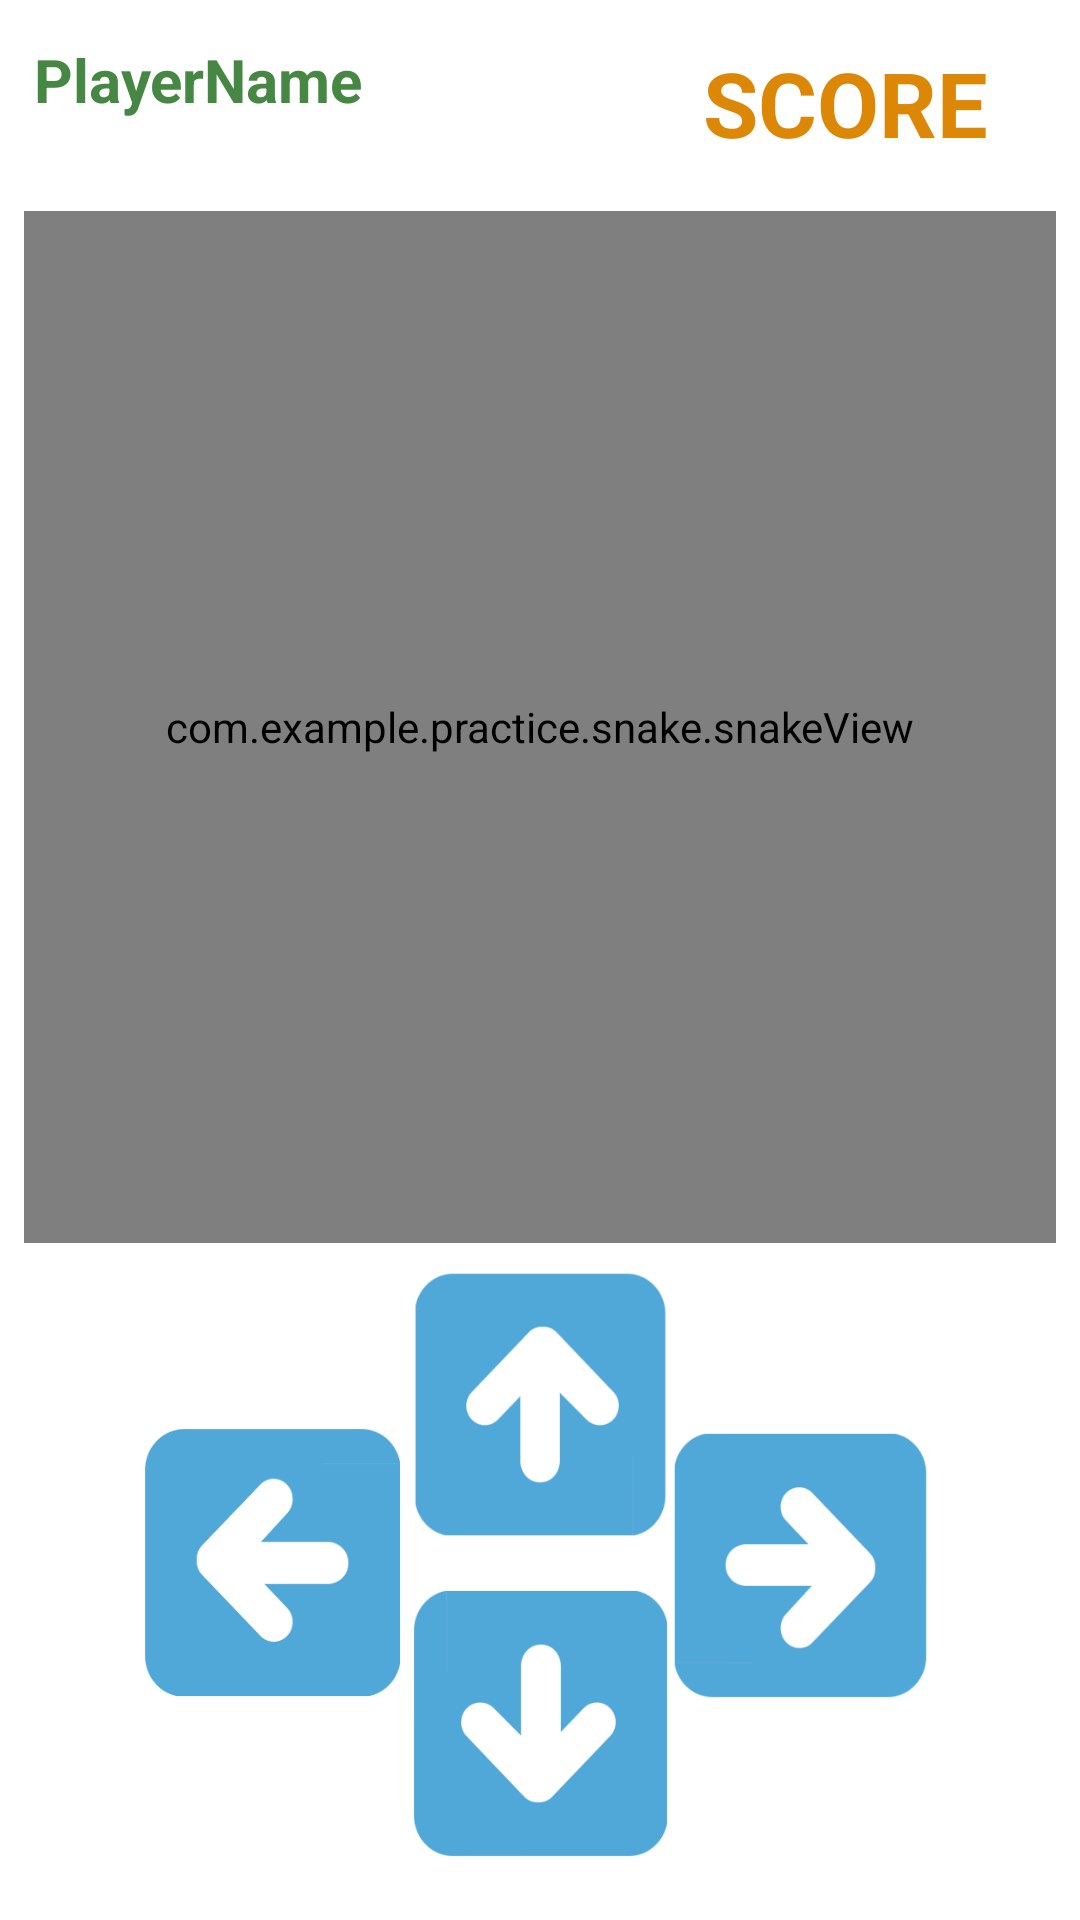

Point at icon controls on the screen. Image size 1080*1920, points as (x,y).
down: (540,1723)
left: (272,1562)
right: (800,1565)
